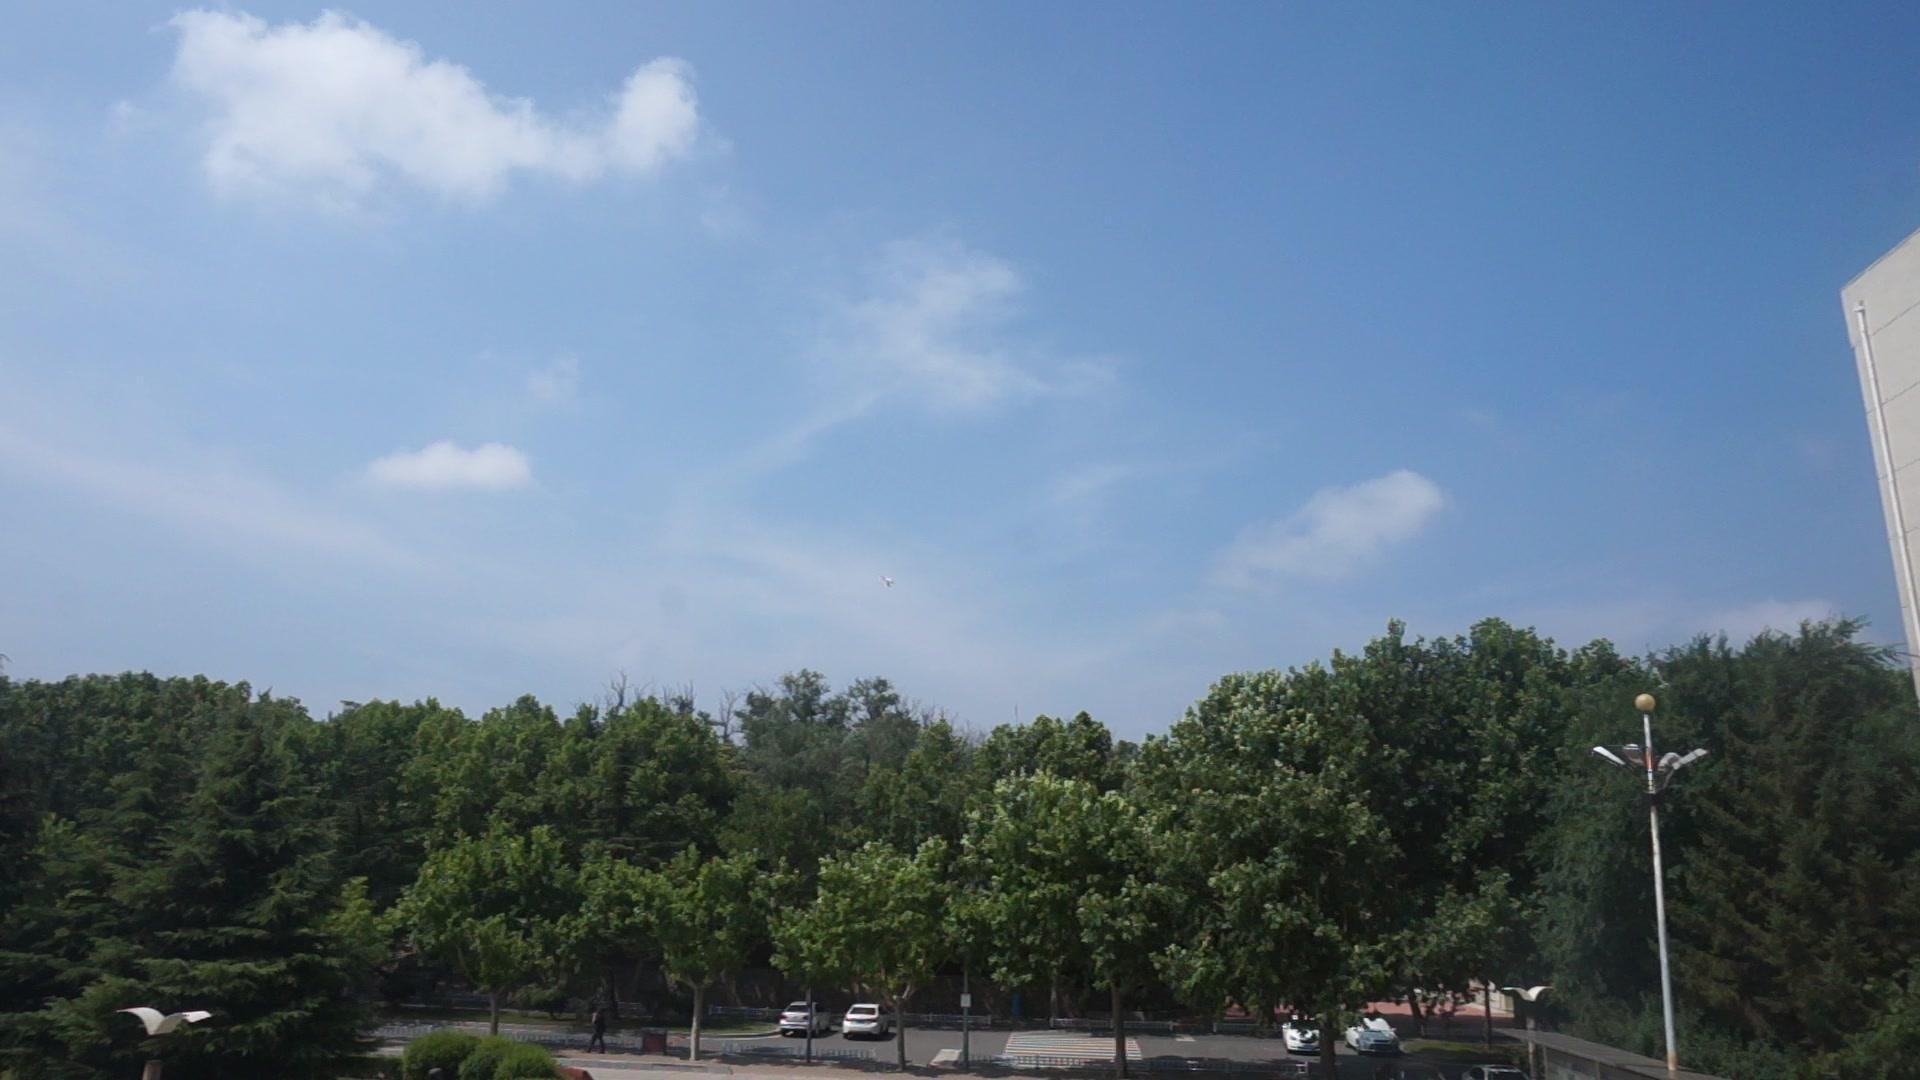UAV: (880, 578, 897, 589)
